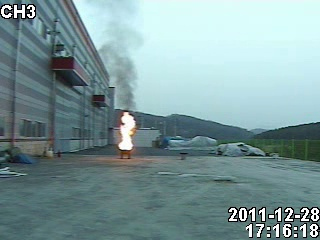fire: (117, 110, 137, 152)
